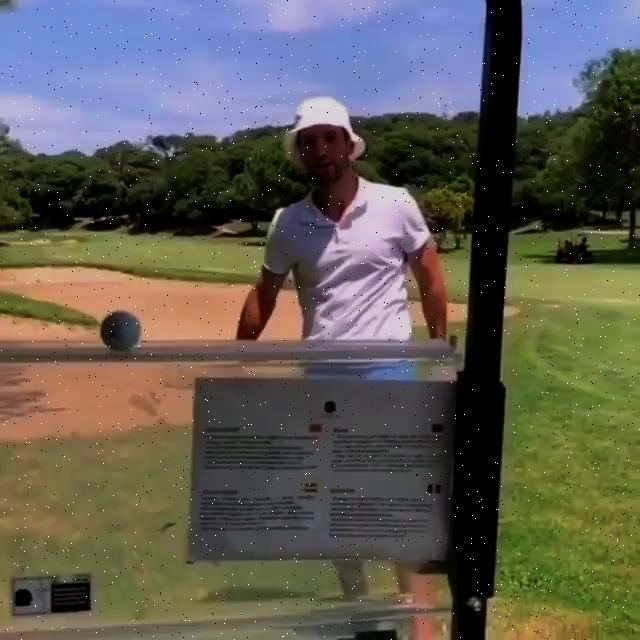golf ball: (101, 310, 141, 351)
